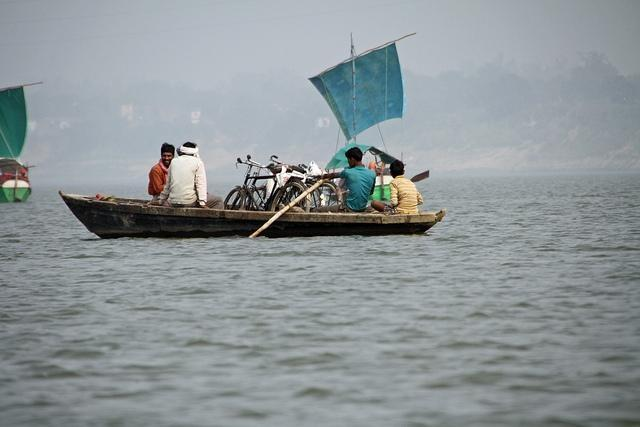bicycle: (224, 157, 312, 212), (298, 162, 343, 206)
